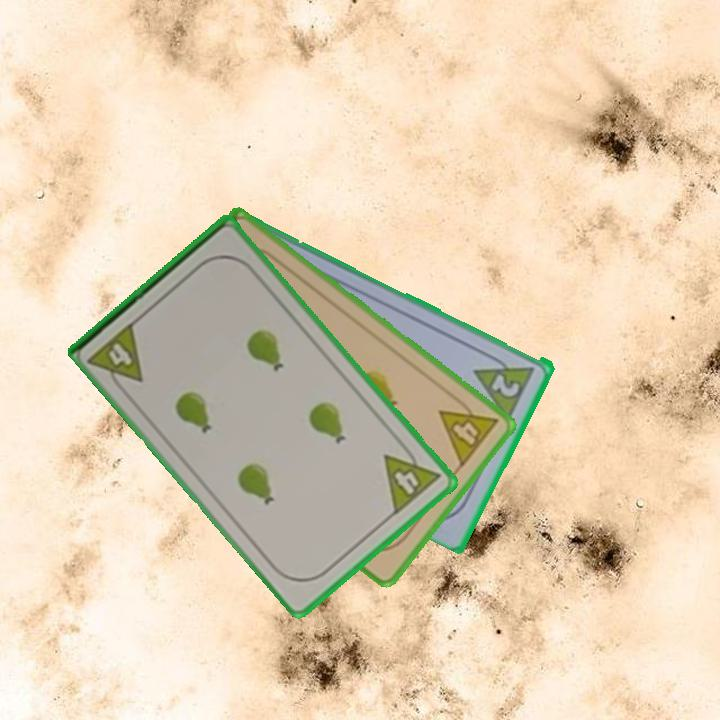2p: (471, 347, 539, 422)
4p: (435, 390, 501, 471), (380, 437, 444, 518), (85, 317, 147, 397)
